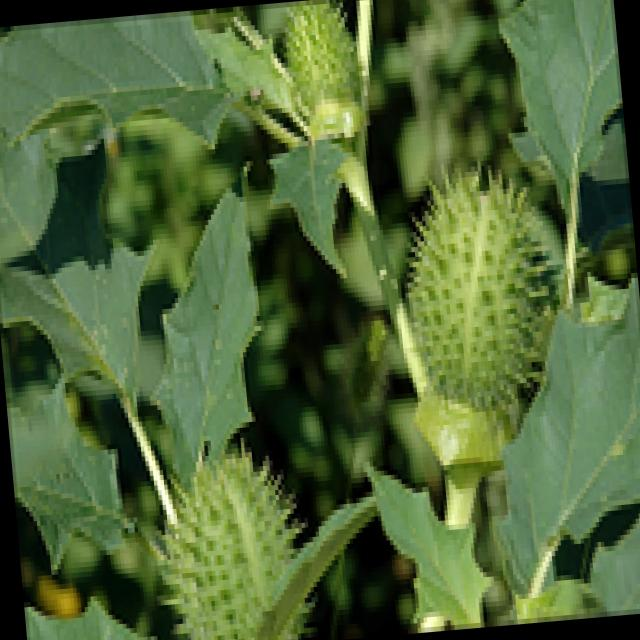Poisonous-Datura_Stramonium: (0, 10, 302, 458), (388, 149, 583, 506), (136, 406, 369, 640), (260, 0, 394, 188)
